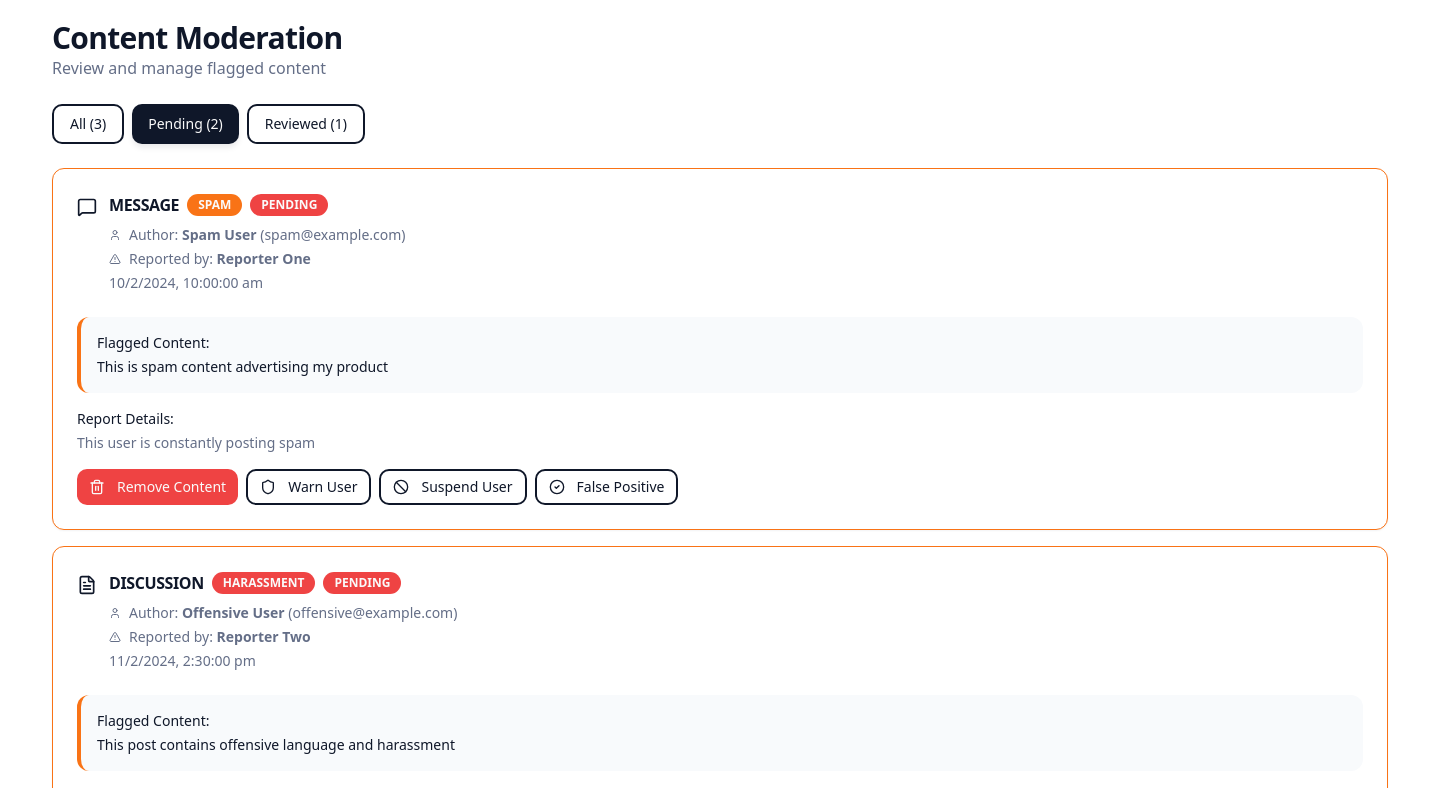
it: US-MODERATOR-003: Manage Content Flags › False Positive › should display resolved false positives differently
This screenshot has width=1440, height=788.
Expected: the button "Reviewed (1)" is shown, [247, 104, 365, 144]
# Switch to 'All' tab first to see all flags including reviewed ones
Click the button "All (3)" at (88,124), box [52, 104, 124, 144]
(page scrolled)
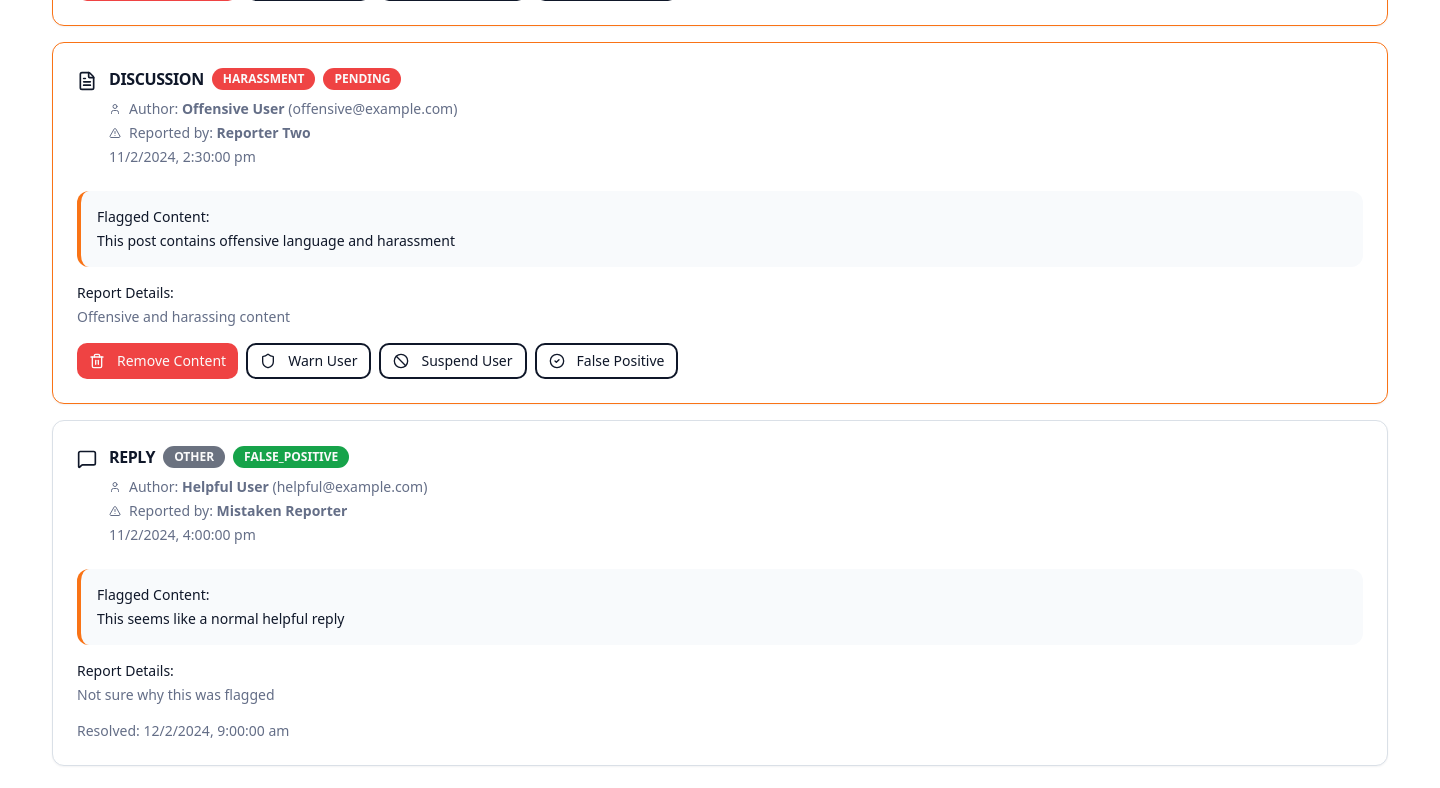
Result: the text "This seems like a normal helpful reply" is shown at [97, 609, 344, 628]
Result: the text "FALSE_POSITIVE" is shown at [233, 446, 349, 468]
